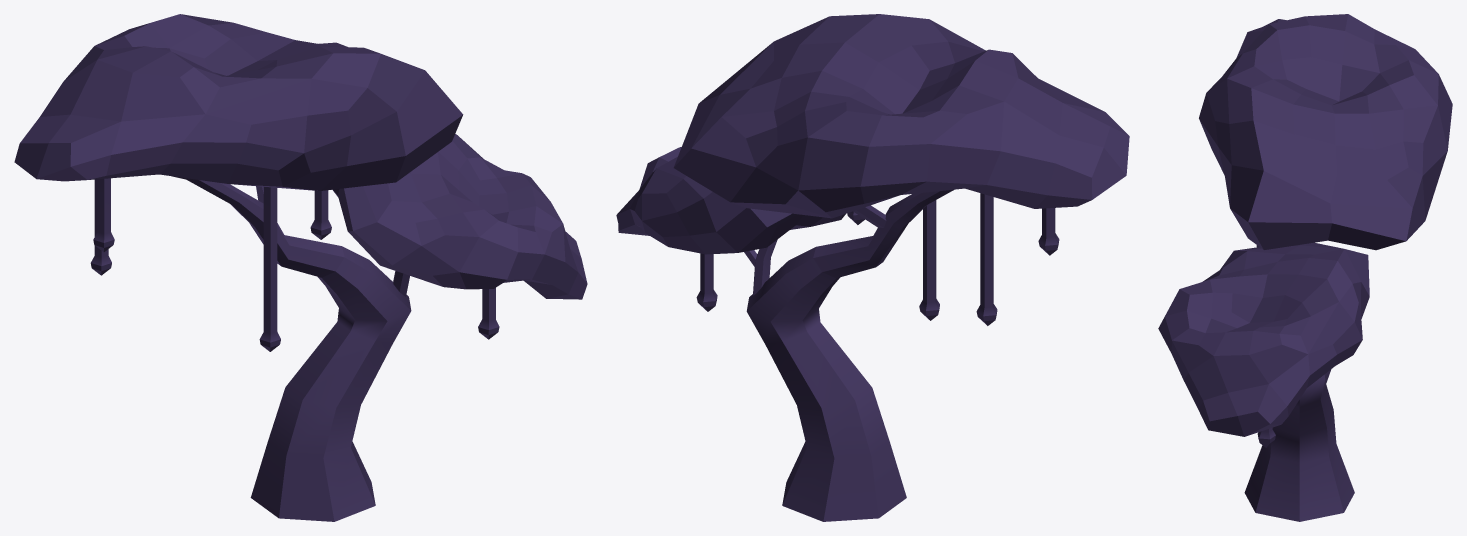
The model's file is Tree_1.fbx.
3 renders of one model, left to right at view 1: azimuth 30°, elevation 25°; view 2: azimuth 150°, elevation 25°; view 3: azimuth 270°, elevation 25°, orthographic. The views are drawn at different scales.
Parts seen in each view (by area): view 1: Tree_1; view 2: Tree_1; view 3: Tree_1.
Boxes of the visible parts, <box> form: Tree_1: <box>14,14,587,521</box>; Tree_1: <box>616,14,1129,521</box>; Tree_1: <box>1158,14,1452,521</box>.
Size of the model in its own units: 3.66 by 3.17 by 2.04.
